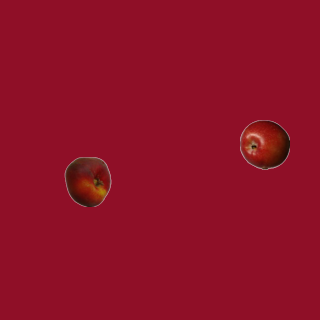Apple Braeburn: (239, 119, 289, 169)
Nectarine Flat: (62, 156, 112, 206)
